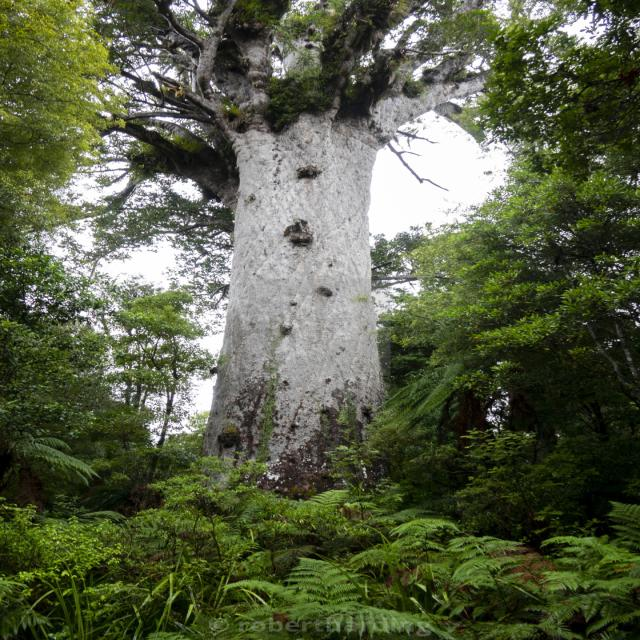Kauri: (124, 0, 469, 486)
